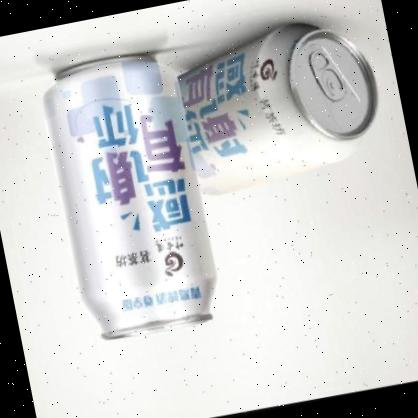can: (34, 45, 227, 353), (172, 9, 398, 206)
